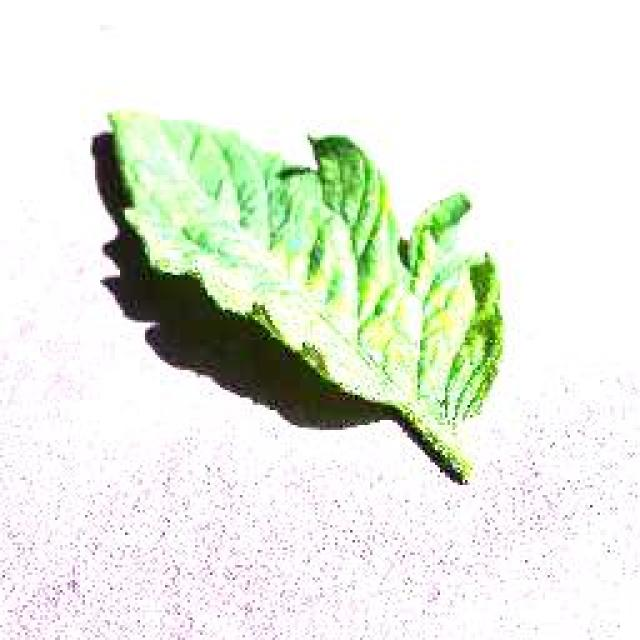Tomato___Tomato_mosaic_virus: (105, 110, 502, 478)
